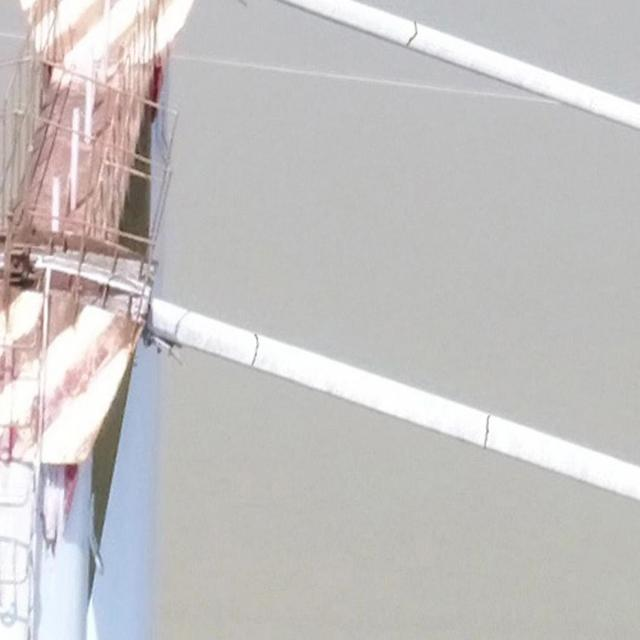crack: (250, 332, 261, 369), (482, 413, 492, 451), (406, 20, 419, 46)
